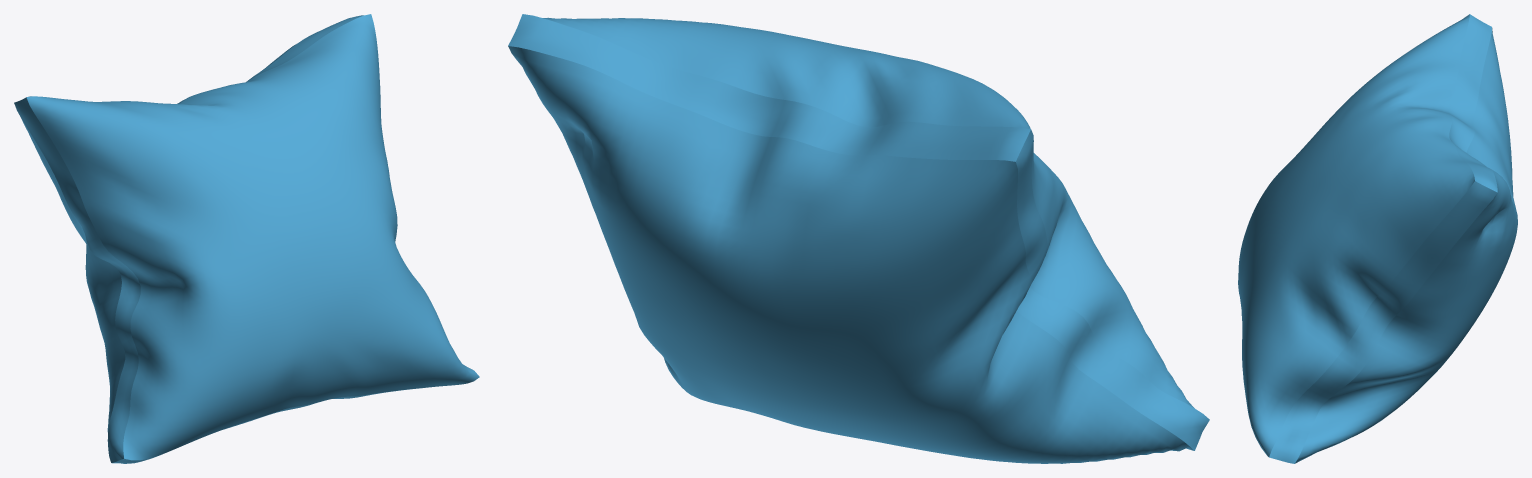
Rendered from poduszka.FBX.
The picture shows the model from 3 angles, left to right: view 1: azimuth 30°, elevation 25°; view 2: azimuth 150°, elevation 25°; view 3: azimuth 270°, elevation 25°; orthographic projection. The views are drawn at different scales.
Visible parts, largest first — view 1: poducha3; view 2: poducha3; view 3: poducha3.
Boxes of the visible parts, x1,y1,x2,y2 form: poducha3: (14,14,479,463); poducha3: (508,14,1209,463); poducha3: (1238,14,1517,463).
Size of the model in its own units: 37.82 by 29.34 by 26.08.
